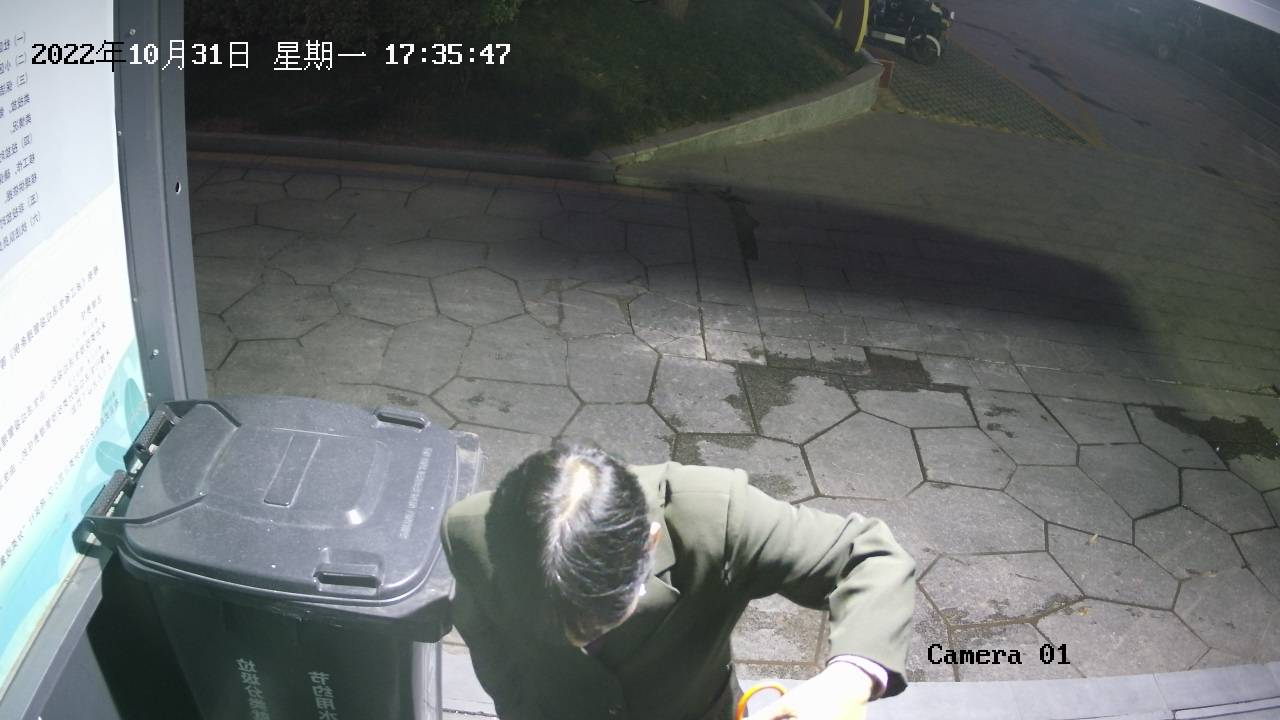person: (436, 433, 918, 720)
